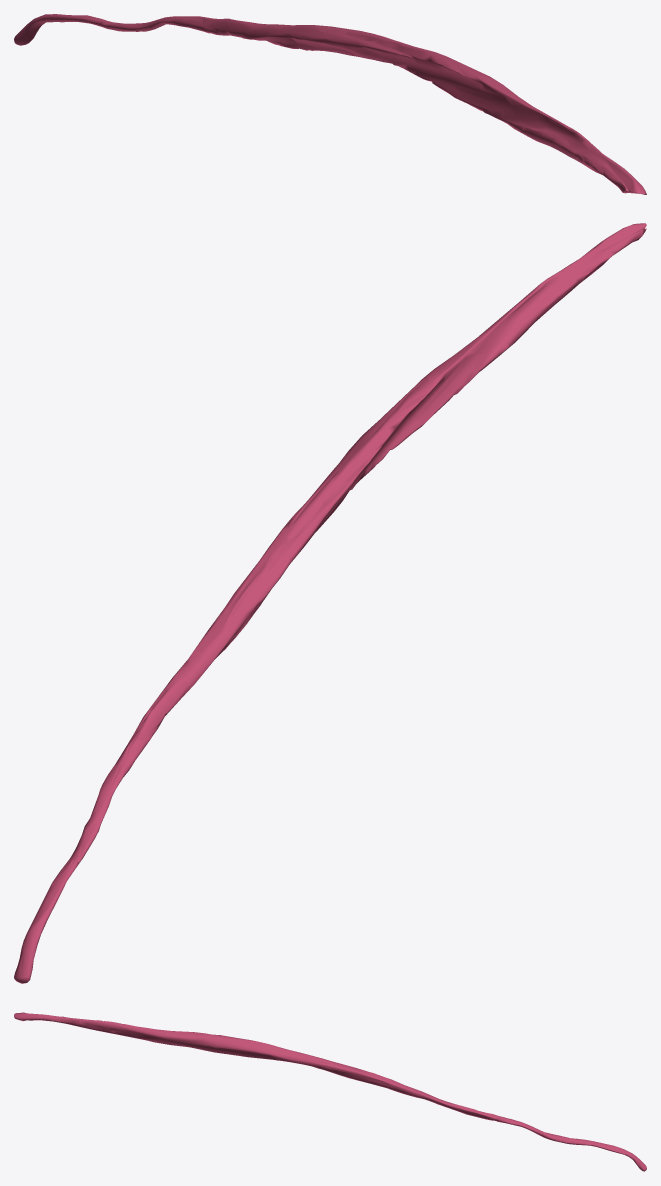
The picture shows the model from 3 angles, top to bottom: view 1: azimuth 30°, elevation 25°; view 2: azimuth 150°, elevation 25°; view 3: azimuth 270°, elevation 25°; orthographic projection. The views are drawn at different scales.
Parts seen in each view (by area): view 1: 左侧小指伸肌; view 2: 左侧小指伸肌; view 3: 左侧小指伸肌.
Boxes of the visible parts, box(x1,y1,x2,y2) form: 左侧小指伸肌: box(14, 14, 646, 194); 左侧小指伸肌: box(14, 223, 646, 983); 左侧小指伸肌: box(14, 1012, 646, 1171).
Size of the model in its own units: 0.0248 by 0.1364 by 0.4949.
